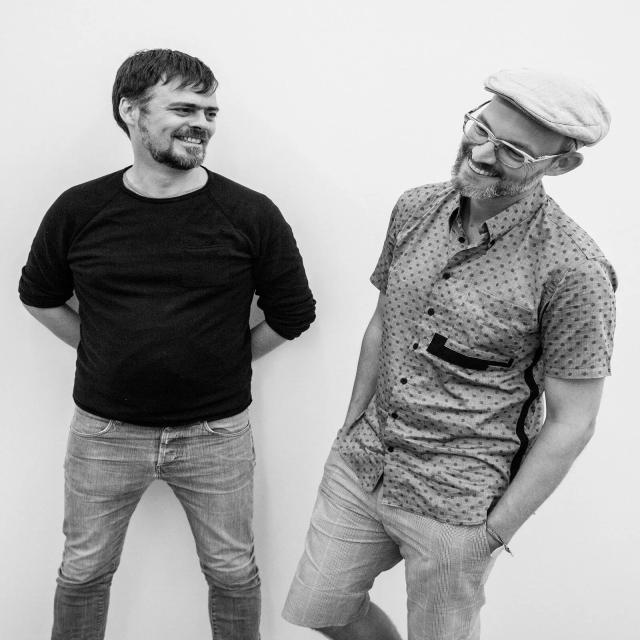nohelmet: (439, 62, 612, 207), (108, 48, 229, 187)
